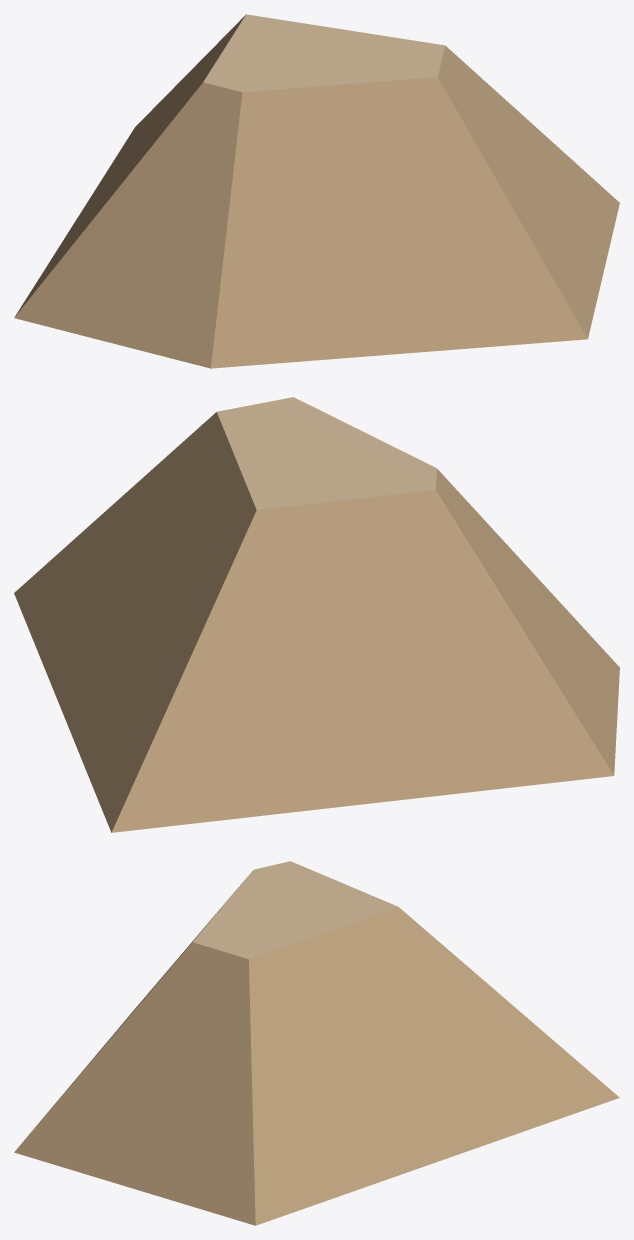
Rendered from rock_sand_c.glb.
3 views of the same model, one above another, from view 1: azimuth 30°, elevation 25°; view 2: azimuth 150°, elevation 25°; view 3: azimuth 270°, elevation 25° (orthographic). The views are drawn at different scales.
Parts seen in each view (by area): view 1: rock_sand_c; view 2: rock_sand_c; view 3: rock_sand_c.
Boxes of the visible parts, x1,y1,x2,y2 form: rock_sand_c: (14,14,619,368); rock_sand_c: (14,397,619,832); rock_sand_c: (14,861,619,1225).
Size of the model in its own units: 14 by 4.76 by 14.
